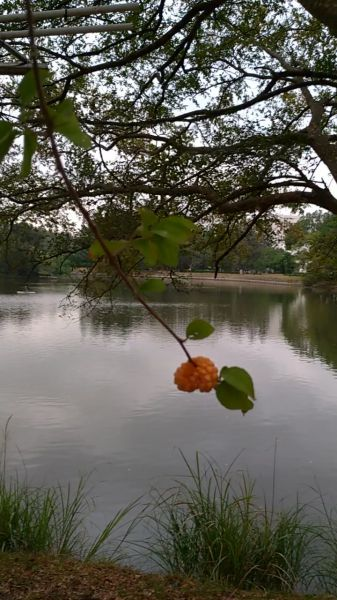eggs: (170, 354, 222, 395)
